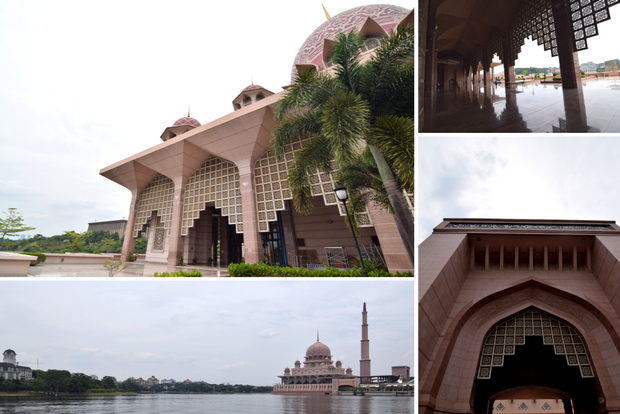Mosque: (277, 298, 387, 394)
